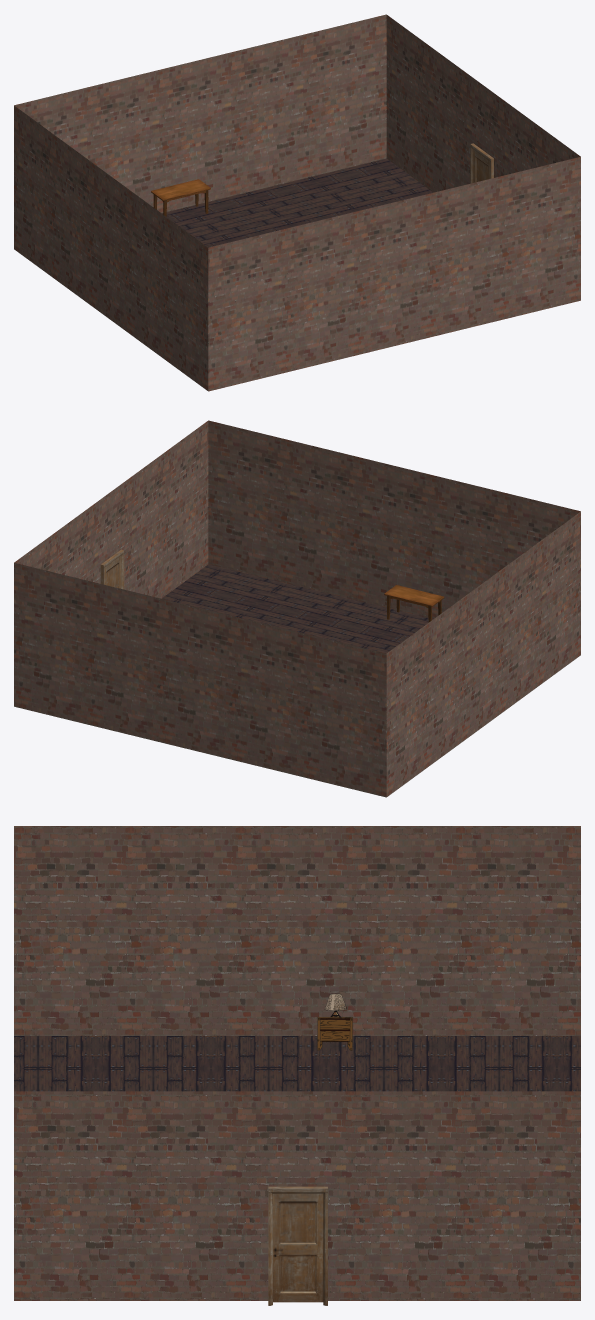
The model's file is basement.glb.
3 renders of one model, top to bottom at view 1: azimuth 30°, elevation 25°; view 2: azimuth 150°, elevation 25°; view 3: azimuth 270°, elevation 25°, orthographic. The views are drawn at different scales.
Parts seen in each view (by area): view 1: Cube, old_table_old_table_0.002; view 2: Cube, old_table_old_table_0.001; view 3: Cube, Worn Door_005_Doors_0, Worn Doorframe_005_Doors_0, Mesa de noche.
Part boxes in pixels (left/top/right/bottom): Cube: left=14, top=14, right=580, bottom=391; old_table_old_table_0.002: left=151, top=179, right=210, bottom=216; Cube: left=14, top=420, right=580, bottom=797; old_table_old_table_0.001: left=384, top=585, right=444, bottom=622; Cube: left=14, top=826, right=580, bottom=1300; Worn Door_005_Doors_0: left=273, top=1193, right=323, bottom=1302; Worn Doorframe_005_Doors_0: left=268, top=1186, right=327, bottom=1305; Mesa de noche: left=317, top=1017, right=352, bottom=1050.
Bounding box in the file's own units: 90.8 × 35.3 × 81.43.
Materials: 6 (6 with a texture image).
